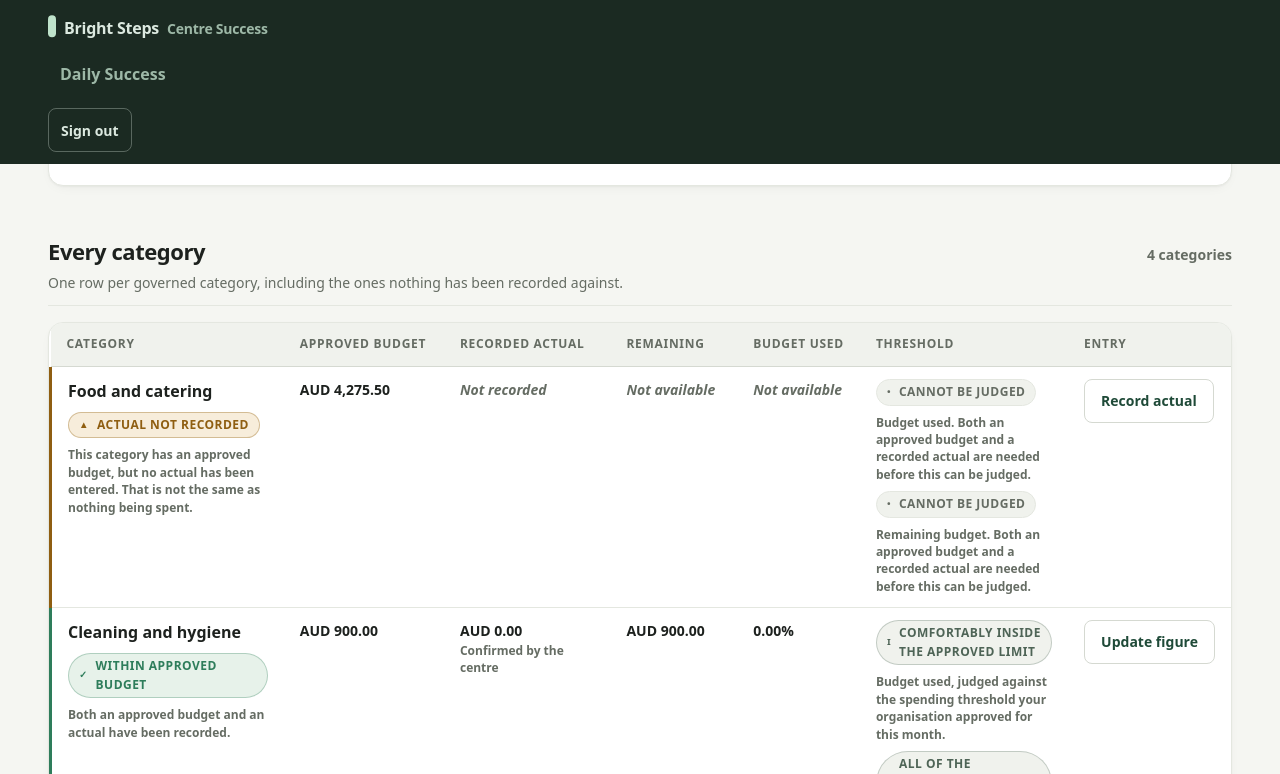
it: recording an actual › an empty entry is refused rather than becoming a zero
(page scrolled)
Click the button named "Record actual for Food and catering".
click(1149, 401)  # box [1084,379,1214,423]
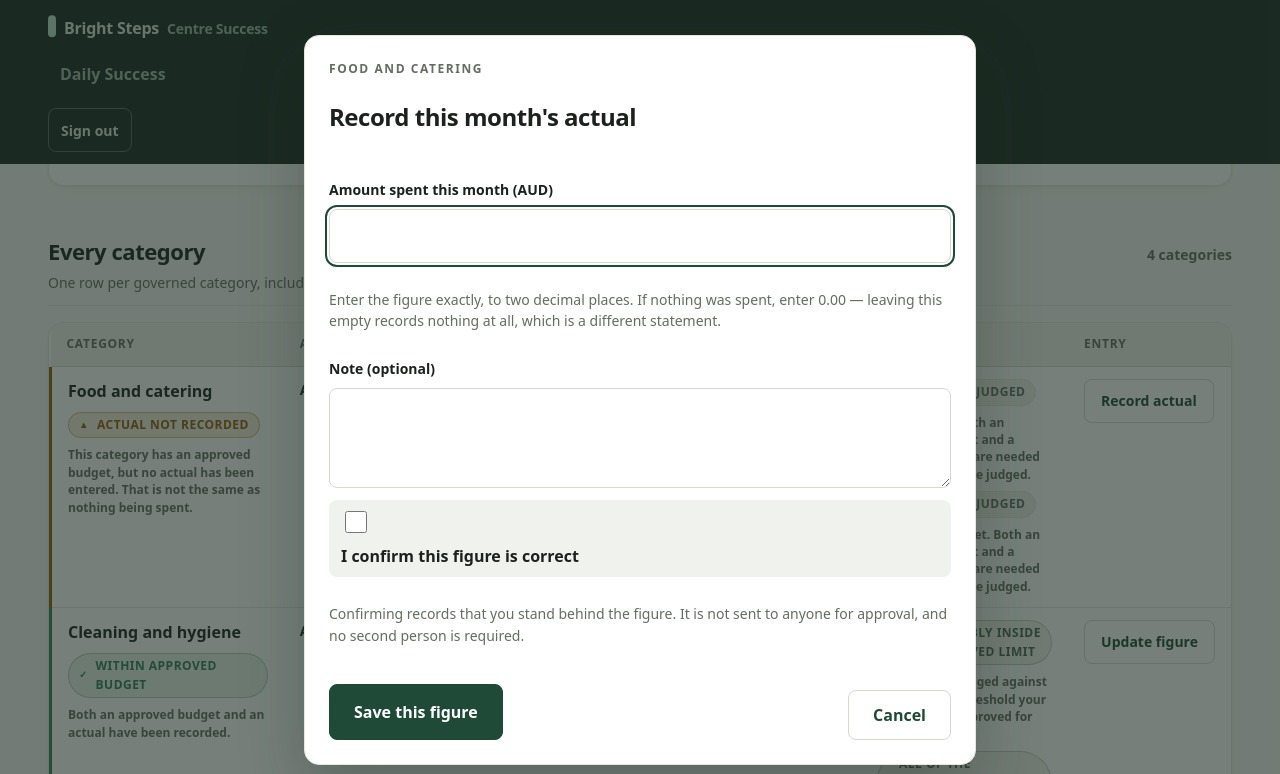
Click the button "Save this figure".
click(416, 712)  # box [329,684,503,740]
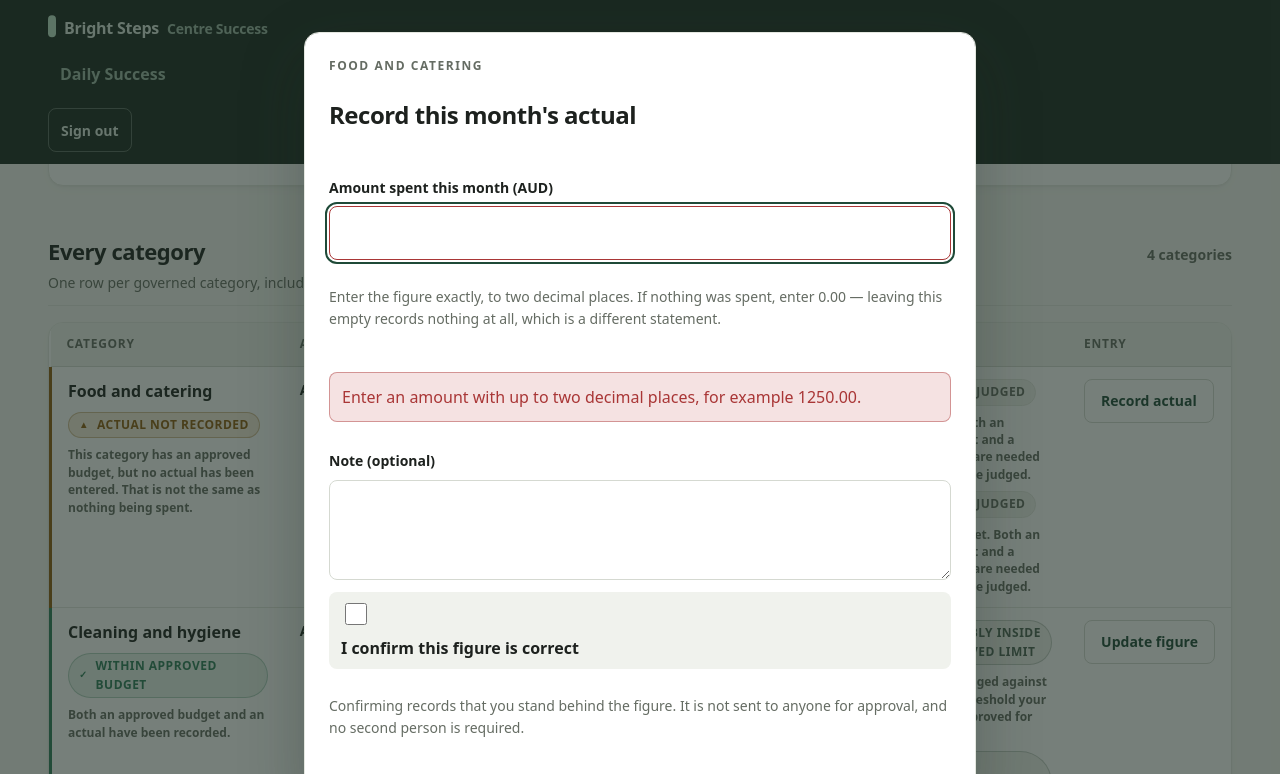
Result: the text "leaving this empty records nothing at all" is shown at [329,287,942,328]
Result: the message shows "Enter an amount with up to two decimal places" at [342,386,861,408]
